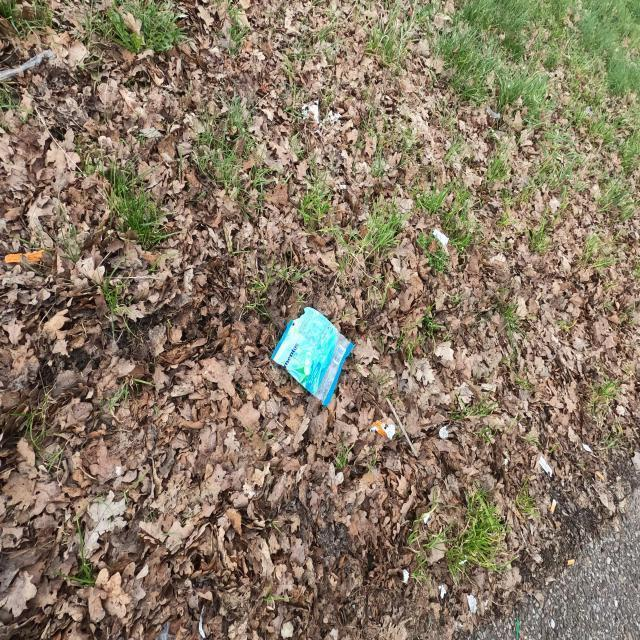Plastic: (270, 306, 356, 408), (5, 248, 46, 264), (370, 419, 396, 441)
